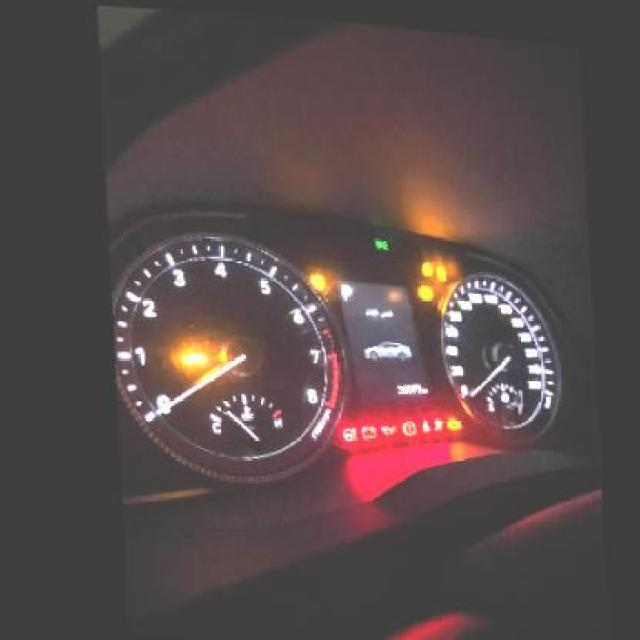Seat Belt: (411, 414, 422, 428)
